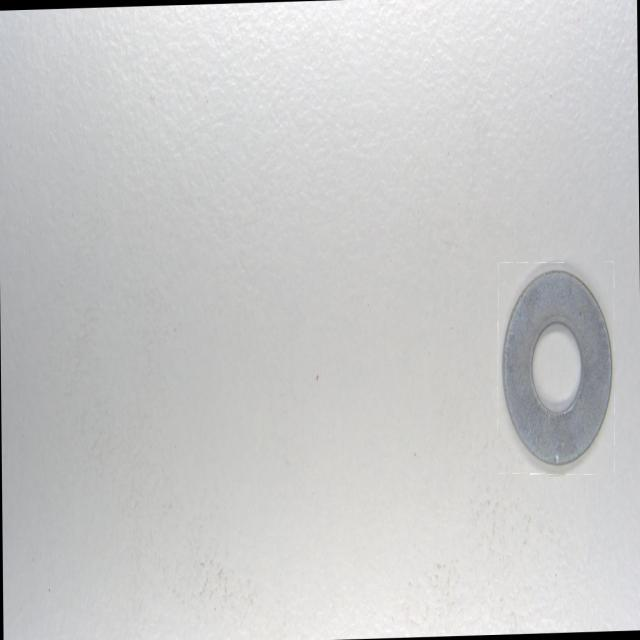washer: (498, 264, 614, 474)
